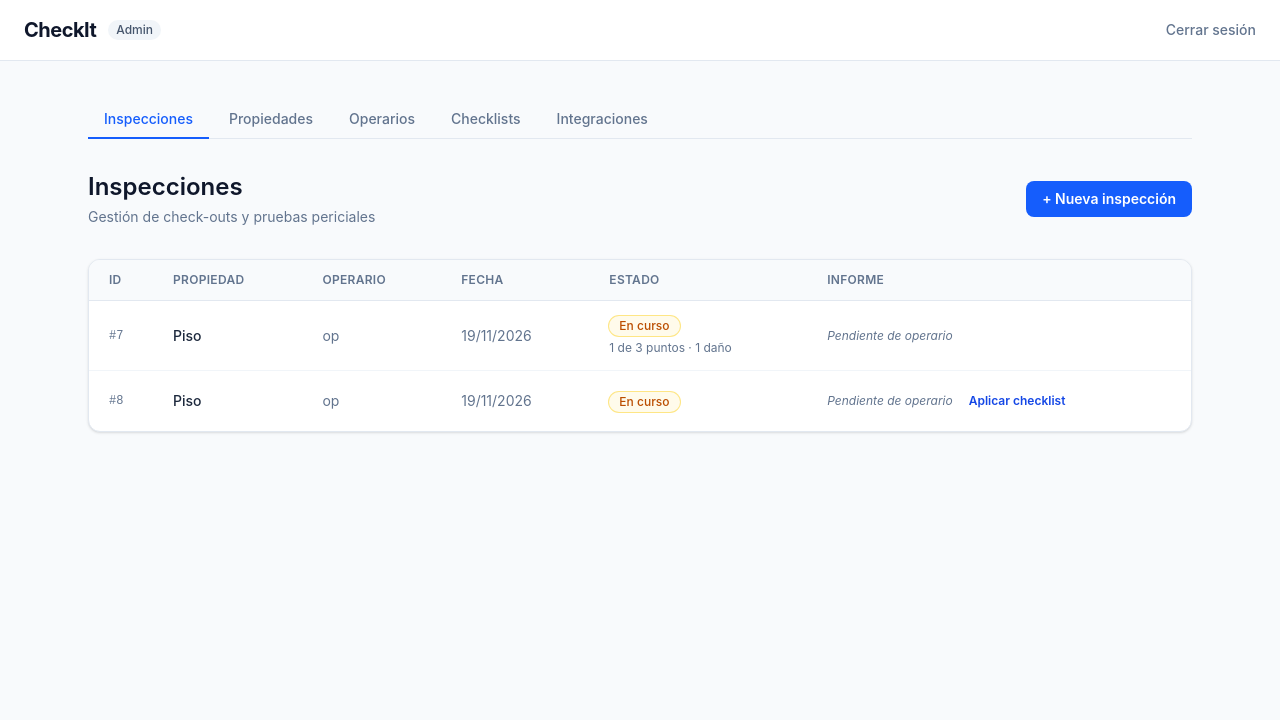
Test case: AdminPage: checklists › si no se puede aplicar, dice por qué
Click the button "Aplicar checklist".
click(1017, 401)  # box [961, 385, 1073, 417]
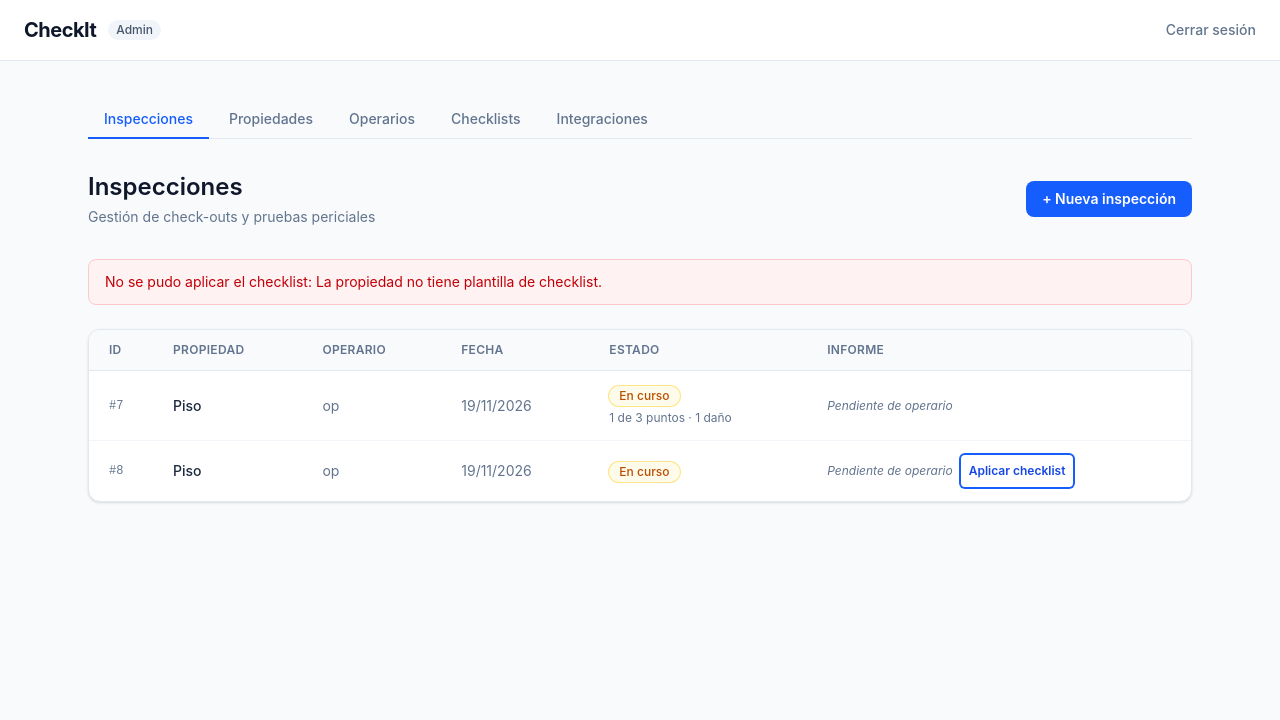
Expected: the text "La propiedad no tiene plantilla" is shown, [105, 273, 602, 290]
